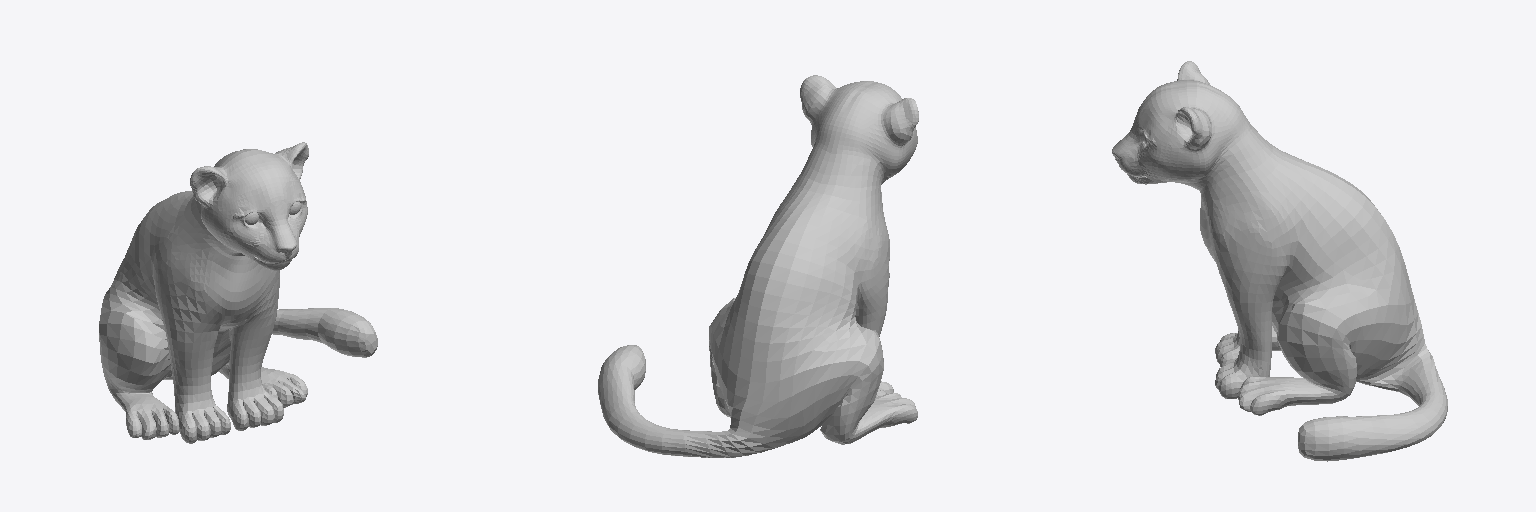
File: leo.obj
The picture shows the model from 3 angles: view 1: azimuth 30°, elevation 25°; view 2: azimuth 150°, elevation 25°; view 3: azimuth 270°, elevation 25°; orthographic projection.
Visible parts, largest first — view 1: Leopard.001_Leopard; view 2: Leopard.001_Leopard; view 3: Leopard.001_Leopard.
Boxes of the visible parts, <box> form: Leopard.001_Leopard: <box>99,142,377,443</box>; Leopard.001_Leopard: <box>598,75,918,457</box>; Leopard.001_Leopard: <box>1112,61,1447,461</box>.
Bounding box in the file's own units: 1 × 1.02 × 1.06.